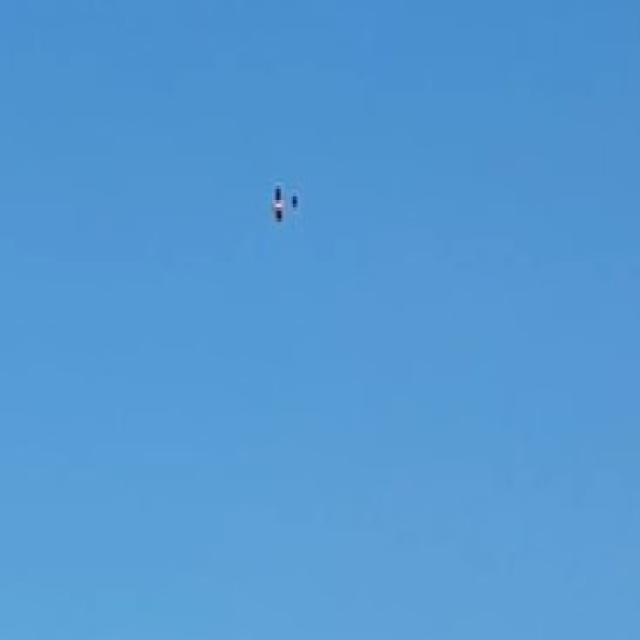iha: (270, 185, 300, 225)
